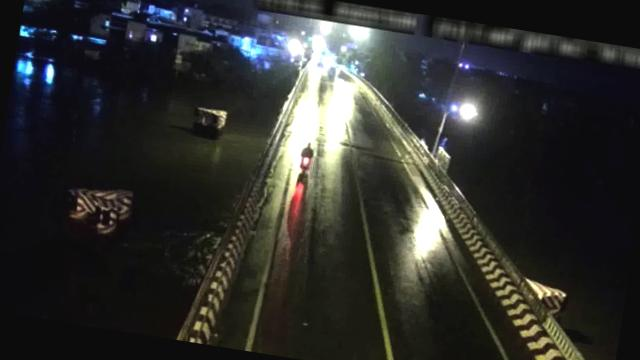Bike: (297, 139, 316, 172)
